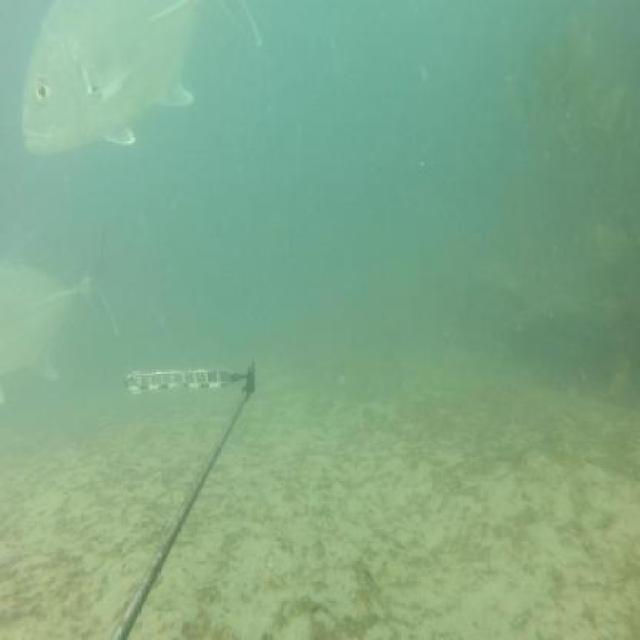Caranx: (19, 1, 266, 167), (2, 221, 122, 402)
